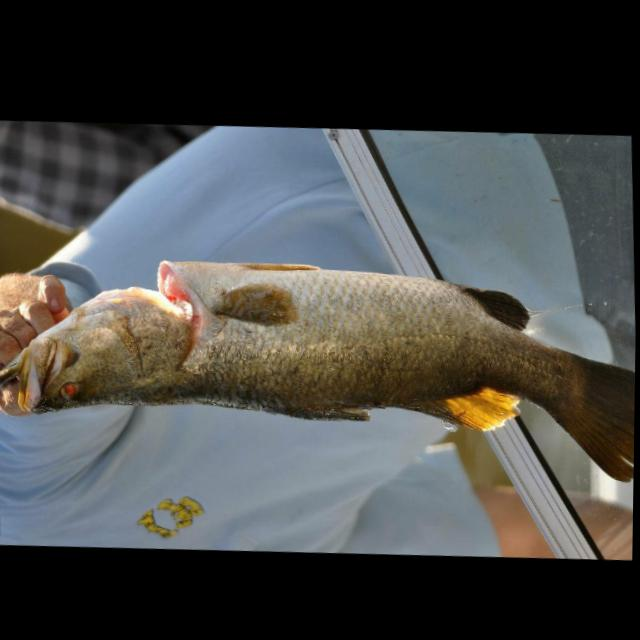Seabass: (0, 234, 637, 504)
